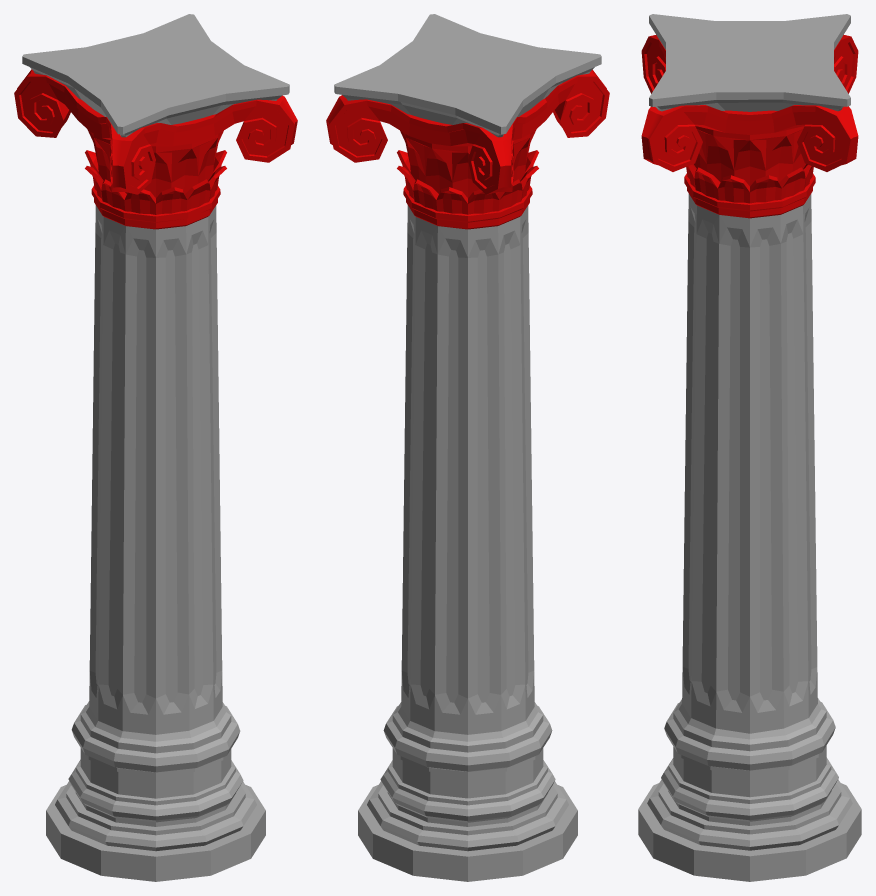
The model's file is SM_Bld_Pillar_04.fbx.
3 renders of one model, left to right at view 1: azimuth 30°, elevation 25°; view 2: azimuth 150°, elevation 25°; view 3: azimuth 270°, elevation 25°, orthographic.
Visible parts, largest first — view 1: SM_Bld_Pillar_04; view 2: SM_Bld_Pillar_04; view 3: SM_Bld_Pillar_04.
Boxes of the visible parts, x1=… form: SM_Bld_Pillar_04: x1=14, y1=14, x2=297, y2=881; SM_Bld_Pillar_04: x1=326, y1=14, x2=609, y2=881; SM_Bld_Pillar_04: x1=638, y1=14, x2=861, y2=881.
Bounding box in the file's own units: 78.08 × 300 × 78.08.
